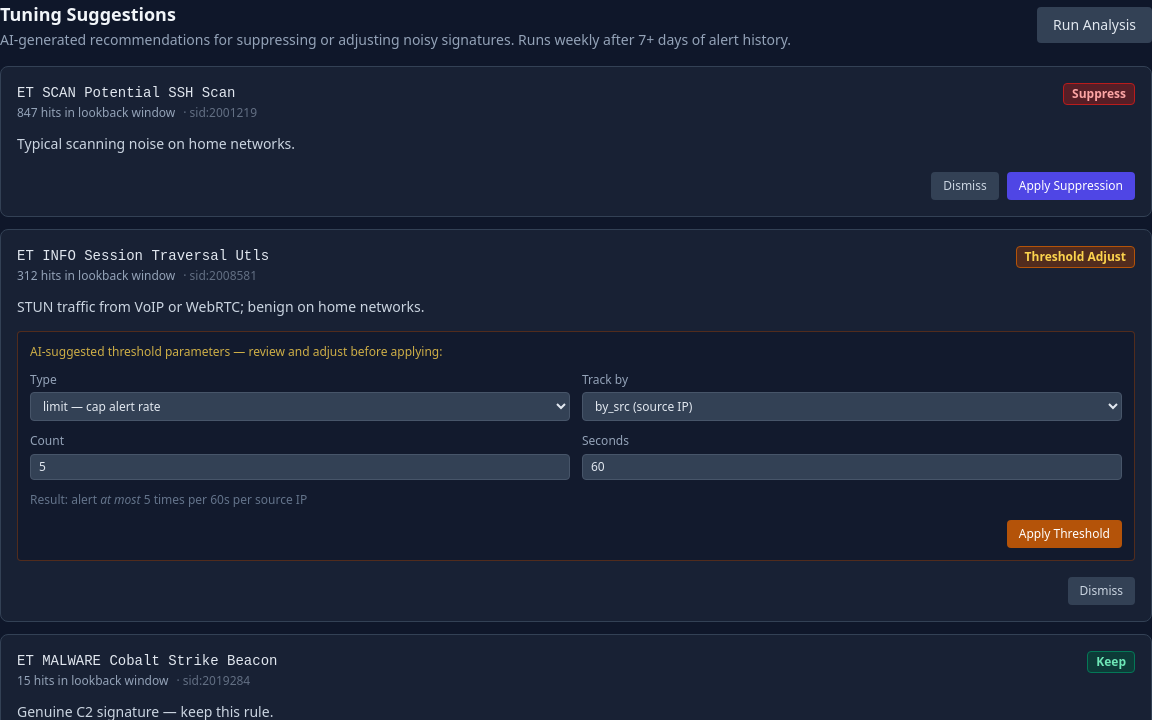
Test: TuningSuggestionsSection — confirm › removes suggestion from list after confirm (suppress)
Expected: the text "ET SCAN Potential SSH Scan" is shown, [17, 83, 257, 103]
Click the button "Apply Suppression" at coordinates (1071, 186), box [1007, 172, 1135, 200]
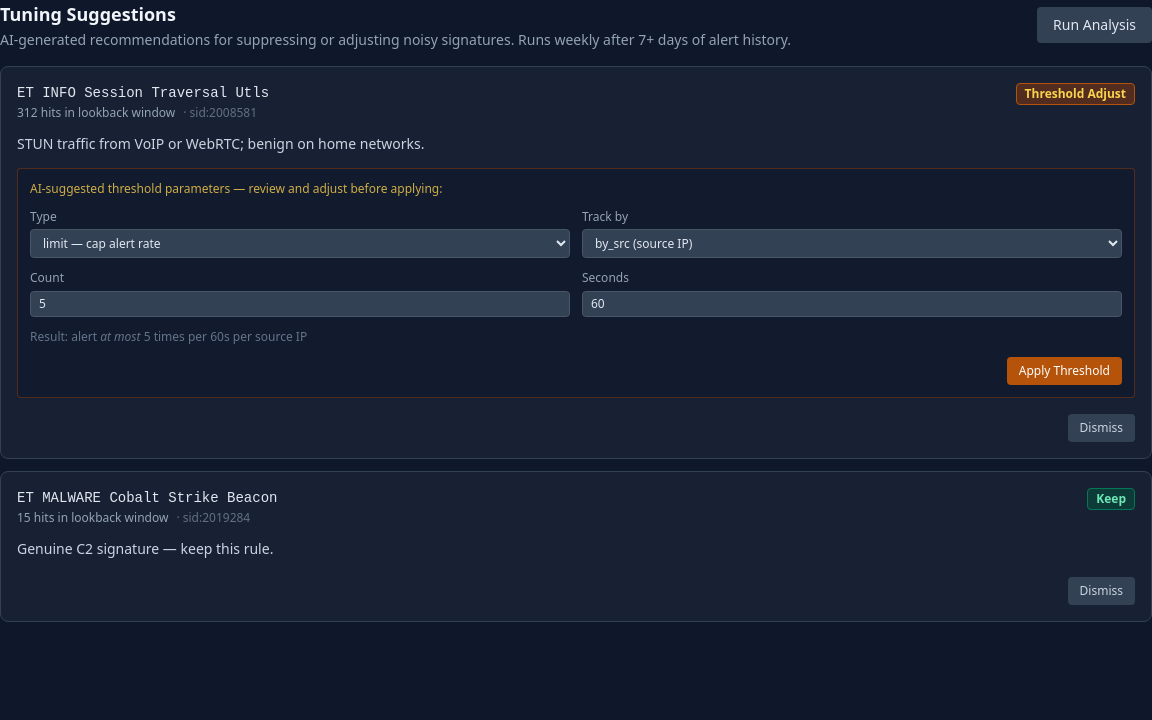
Expected: the text "ET SCAN Potential SSH Scan" is gone
